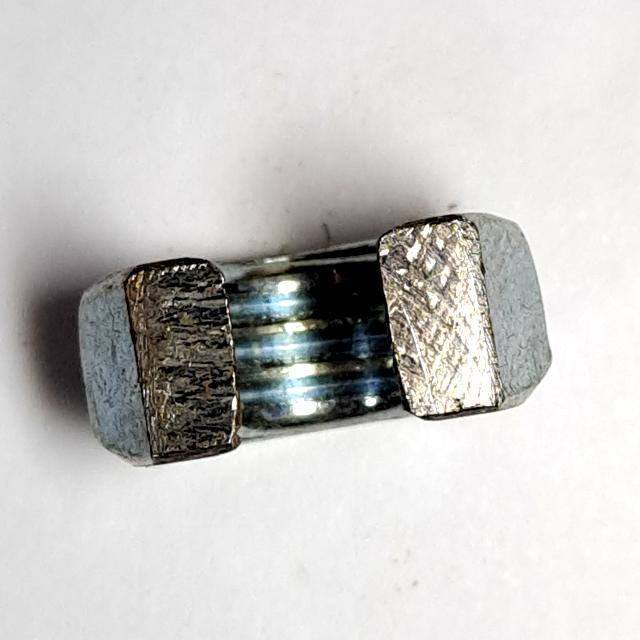Side-Fracture: (70, 205, 566, 489)
